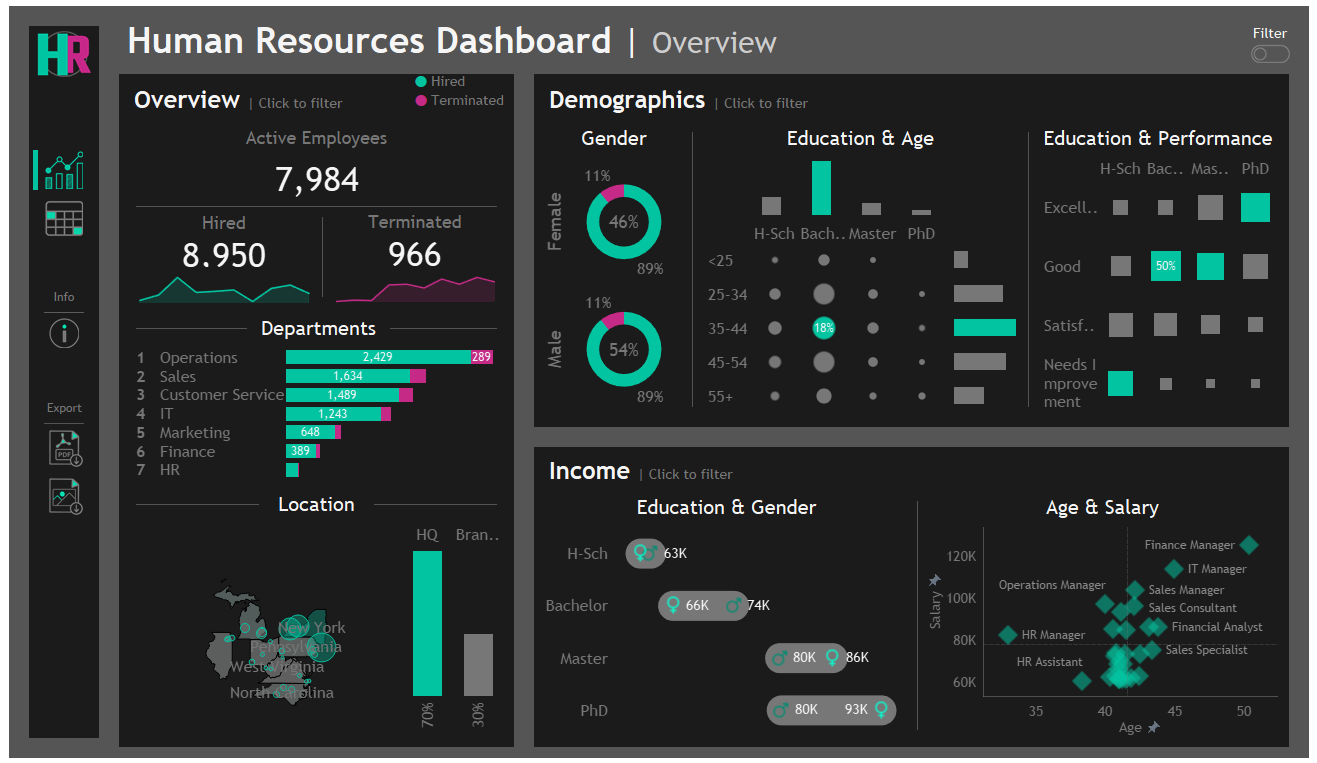

The dashboard page shown, as its layout file describes it:
{"tool":"tableau","page":{"name":"HR | Summary","canvas":[1300,700],"ordinal":1},"visuals":[{"type":"blank","box":[91,0,1207,207]},{"type":"text","box":[110,0,773,68]},{"type":"blank","box":[883,0,397,68]},{"type":"filter","title":"Gender vs. Education","param":"[federated.0qqtk710gb76fh1ghayb30paevzf].[none:Gender:nk]","box":[797,7,110,54]},{"type":"filter","title":"Gender vs. Education","param":"[federated.0qqtk710gb76fh1ghayb30paevzf].[none:Calculation_2215771026086223883:n","box":[907,7,110,54]},{"type":"filter","title":"Gender vs. Education","param":"[federated.0qqtk710gb76fh1ghayb30paevzf].[none:Calculation_2215771025804328965:n","box":[1017,7,110,54]},{"type":"filter","title":"Gender vs. Education","param":"[federated.0qqtk710gb76fh1ghayb30paevzf].[yr:Hiredate:ok]","box":[1127,7,109,54]},{"type":"text","box":[1240,12,55,30]},{"type":"image","param":"Image/Logo.png","box":[20,20,70,55]},{"type":"dashboard-object","box":[1241,28,40,39]},{"type":"text","box":[402,54,106,64]},{"type":"blank","box":[20,75,70,60]},{"type":"text","box":[117,75,381,28]},{"type":"text","box":[532,75,741,28]},{"type":"text","box":[117,103,381,29]},{"type":"text","box":[532,108,146,24]},{"type":"blank","box":[683,108,1,295]},{"type":"text","box":[689,108,325,24]},{"type":"blank","box":[1019,108,1,295]},{"type":"text","box":[1025,108,248,24]},{"type":"worksheet","title":"Ban of Active","mark":"Text","box":[117,132,381,54]},{"type":"worksheet","title":"Gender","mark":"Pie","rows":["Gender"],"cols":["Calculation_2215771025807855623","Calculation_2215771025807855623"],"box":[532,132,146,271]},{"type":"worksheet","title":"Education Levels","mark":"Bar","rows":["Calculation_2215771025790160896"],"cols":["Education Level"],"box":[689,132,325,65]},{"type":"worksheet","title":"Education vs. Performance","mark":"Square","rows":["Performance Rating"],"cols":["Education Level"],"box":[1025,132,248,271]},{"type":"blank","box":[24,144,5,40]},{"type":"dashboard-object","box":[30,145,50,38]},{"type":"blank","box":[30,183,50,10]},{"type":"blank","box":[117,186,381,1]},{"type":"text","box":[117,187,196,32]},{"type":"blank","box":[313,187,1,100]},{"type":"text","box":[314,187,184,23]},{"type":"dashboard-object","box":[30,193,50,38]},{"type":"worksheet","title":"Age vs. Education","mark":"Circle","rows":["Calculation_2215771025810878473"],"cols":["Education Level"],"box":[689,197,252,206]},{"type":"worksheet","title":"Age Groups","mark":"Bar","rows":["Calculation_2215771025810878473"],"cols":["Calculation_2215771025790160896"],"box":[941,197,73,206]},{"type":"text","box":[91,207,1207,343]},{"type":"worksheet","title":"Ban of Terminated","mark":"Text","box":[314,210,184,41.4]},{"type":"worksheet","title":"Ban of Hired","mark":"Text","box":[117,219,196,32]},{"type":"blank","box":[30,231,50,50]},{"type":"worksheet","title":"Hired By Year","mark":"Line","rows":["Calculation_2215771025790160896","Calculation_2215771025790160896"],"cols":["Hiredate"],"box":[117,251,196,36]},{"type":"worksheet","title":"Terminated By Year","mark":"Line","rows":["Calculation_2215771025790300161","Calculation_2215771025790300161"],"cols":["Termdate"],"box":[314,251.4,184,35.6]},{"type":"text","box":[30,281,50,20]},{"type":"blank","box":[127,292,111,30]},{"type":"text","box":[238,292,143,30]},{"type":"blank","box":[381,292,107,30]},{"type":"blank","box":[30,301,50,11]},{"type":"dashboard-object","box":[30,312,50,30]},{"type":"worksheet","title":"Departments","mark":"Bar","rows":["Calculation_2215771025803001860","Department"],"cols":["Calculation_2215771025790160896"],"box":[117,322,381,139]},{"type":"blank","box":[30,342,50,50]},{"type":"text","box":[30,392,50,20]},{"type":"blank","box":[30,412,50,11]},{"type":"dashboard-object","box":[30,423,50,38]},{"type":"text","box":[532,448,741,28]},{"type":"blank","box":[30,461,50,10]},{"type":"blank","box":[127,466,124.3,32]},{"type":"text","box":[251.3,466,112.3,32]},{"type":"blank","box":[363.7,466,124.3,32]},{"type":"dashboard-object","box":[30,471,50,38]},{"type":"text","box":[532,481,371,24]},{"type":"text","box":[914,481,359,32]}]}

Visuals, with their boxes on the page's 1300x700 design canvas (x1, y1, x2, y2). These are canvas units, not pixel positions in the 1317x763 screenshot, which may show the page scaled, cropped or inside an application window:
blank: detection(91, 0, 1298, 207)
text: detection(110, 0, 883, 68)
blank: detection(883, 0, 1280, 68)
"Gender vs. Education" filter: detection(797, 7, 907, 61)
"Gender vs. Education" filter: detection(907, 7, 1017, 61)
"Gender vs. Education" filter: detection(1017, 7, 1127, 61)
"Gender vs. Education" filter: detection(1127, 7, 1236, 61)
text: detection(1240, 12, 1295, 42)
image: detection(20, 20, 90, 75)
dashboard-object: detection(1241, 28, 1281, 67)
text: detection(402, 54, 508, 118)
blank: detection(20, 75, 90, 135)
text: detection(117, 75, 498, 103)
text: detection(532, 75, 1273, 103)
text: detection(117, 103, 498, 132)
text: detection(532, 108, 678, 132)
blank: detection(683, 108, 684, 403)
text: detection(689, 108, 1014, 132)
blank: detection(1019, 108, 1020, 403)
text: detection(1025, 108, 1273, 132)
"Ban of Active" worksheet (Text marks): detection(117, 132, 498, 186)
"Gender" worksheet (Pie marks): detection(532, 132, 678, 403)
"Education Levels" worksheet (Bar marks): detection(689, 132, 1014, 197)
"Education vs. Performance" worksheet (Square marks): detection(1025, 132, 1273, 403)
blank: detection(24, 144, 29, 184)
dashboard-object: detection(30, 145, 80, 183)
blank: detection(30, 183, 80, 193)
blank: detection(117, 186, 498, 187)
text: detection(117, 187, 313, 219)
blank: detection(313, 187, 314, 287)
text: detection(314, 187, 498, 210)
dashboard-object: detection(30, 193, 80, 231)
"Age vs. Education" worksheet (Circle marks): detection(689, 197, 941, 403)
"Age Groups" worksheet (Bar marks): detection(941, 197, 1014, 403)
text: detection(91, 207, 1298, 550)
"Ban of Terminated" worksheet (Text marks): detection(314, 210, 498, 251)
"Ban of Hired" worksheet (Text marks): detection(117, 219, 313, 251)
blank: detection(30, 231, 80, 281)
"Hired By Year" worksheet (Line marks): detection(117, 251, 313, 287)
"Terminated By Year" worksheet (Line marks): detection(314, 251, 498, 287)
text: detection(30, 281, 80, 301)
blank: detection(127, 292, 238, 322)
text: detection(238, 292, 381, 322)
blank: detection(381, 292, 488, 322)
blank: detection(30, 301, 80, 312)
dashboard-object: detection(30, 312, 80, 342)
"Departments" worksheet (Bar marks): detection(117, 322, 498, 461)
blank: detection(30, 342, 80, 392)
text: detection(30, 392, 80, 412)
blank: detection(30, 412, 80, 423)
dashboard-object: detection(30, 423, 80, 461)
text: detection(532, 448, 1273, 476)
blank: detection(30, 461, 80, 471)
blank: detection(127, 466, 251, 498)
text: detection(251, 466, 364, 498)
blank: detection(364, 466, 488, 498)
dashboard-object: detection(30, 471, 80, 509)
text: detection(532, 481, 903, 505)
text: detection(914, 481, 1273, 513)
